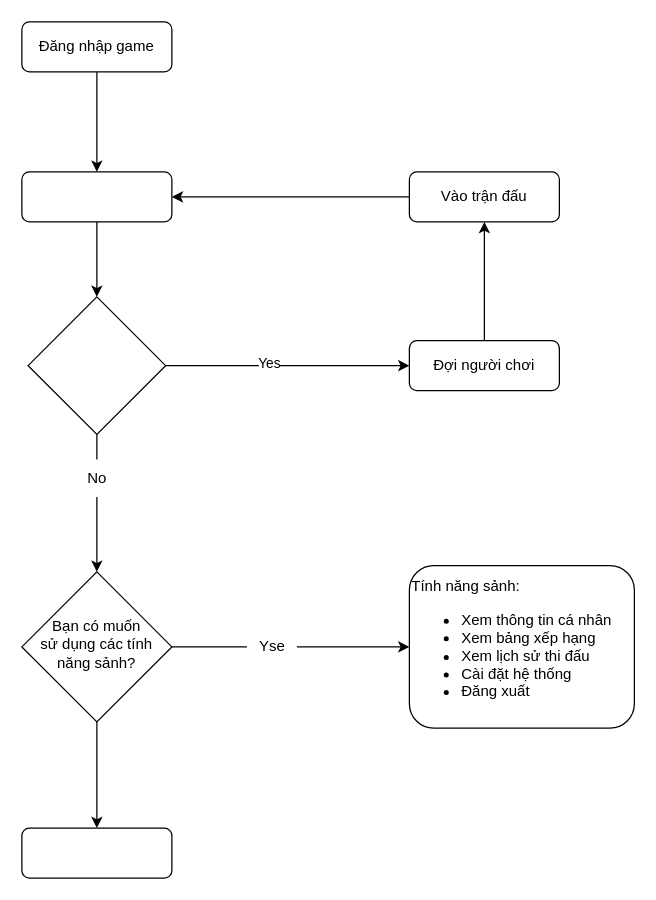
The diagram is 656 pixels wide and 900 high, and some of its shapes have lost their labels. Each missing label, with the box of its shape:
Bạn muốn vào trận đấu?: (27, 296, 166, 434)
Sảnh: (21, 171, 172, 222)
Thoát game: (21, 827, 172, 878)
